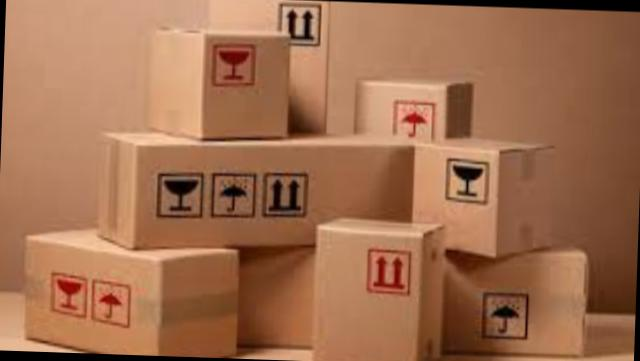cardboard paper: (99, 134, 413, 245), (22, 227, 235, 357), (314, 218, 443, 361), (412, 139, 550, 255), (209, 0, 329, 128), (440, 246, 583, 350), (148, 26, 284, 133), (356, 79, 472, 139)
